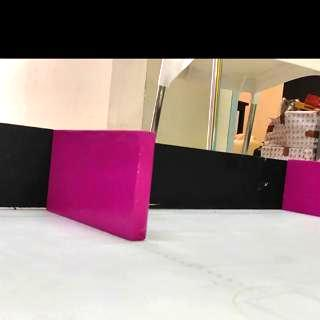xparking: (55, 134, 147, 235), (289, 160, 320, 214)
